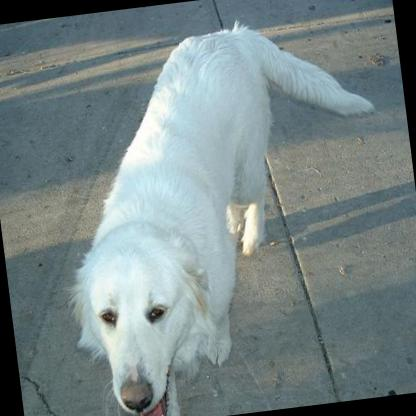Great_Pyrenees: (32, 3, 408, 416)
